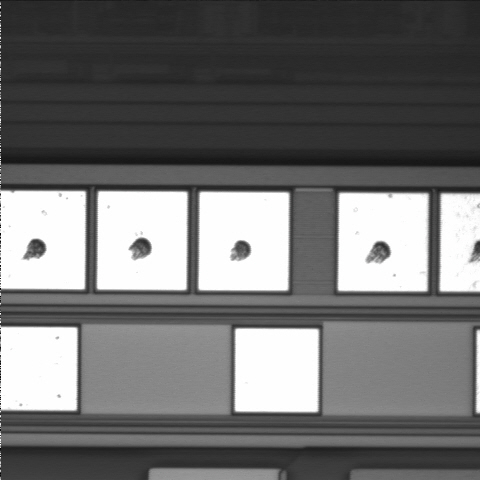pad: (97, 191, 187, 290), (199, 192, 289, 290), (338, 193, 428, 291), (235, 329, 319, 412)
